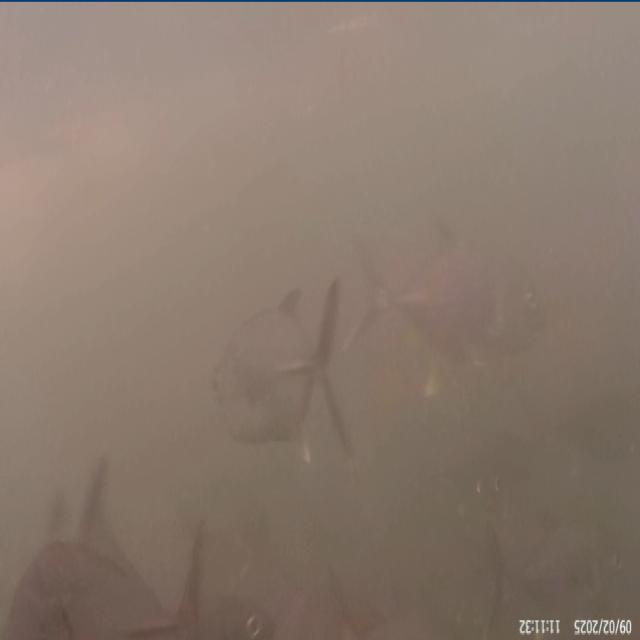ikan: (150, 248, 374, 510), (368, 172, 582, 384)
